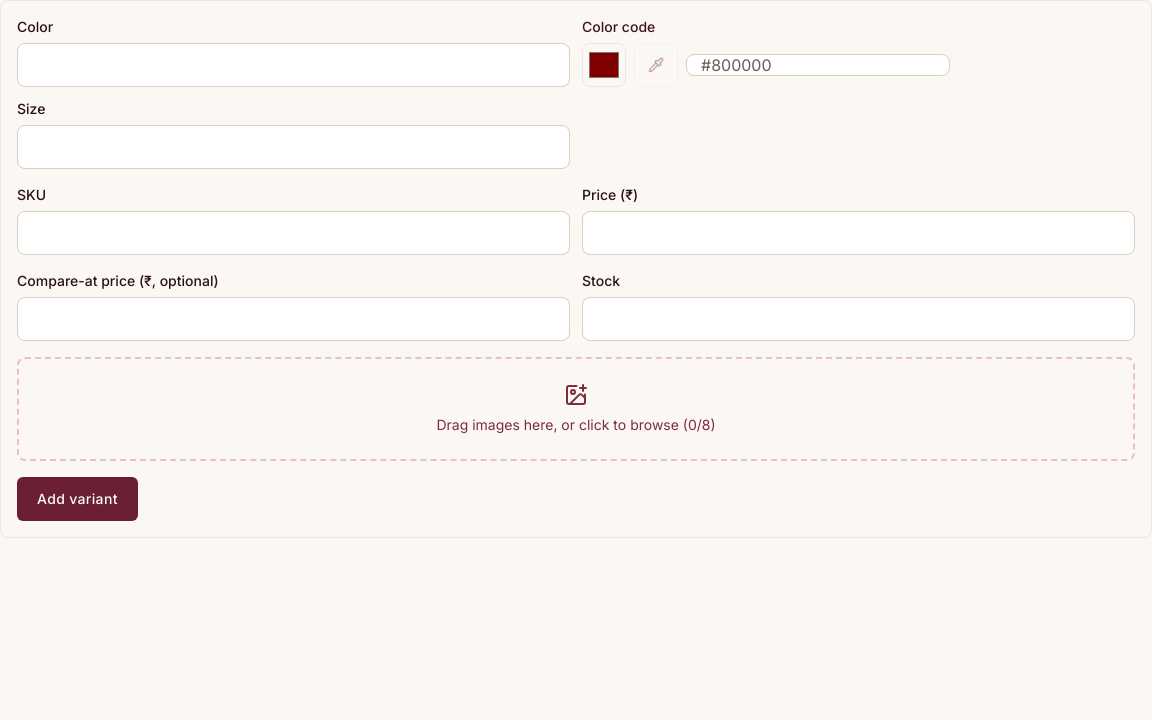
Test: VariantMiniForm › still requires every attribute to be filled in, same as before colorCode support
Type "SKU-1" into the field labelled "SKU" at (294, 233), box left=17, top=211, right=570, bottom=255
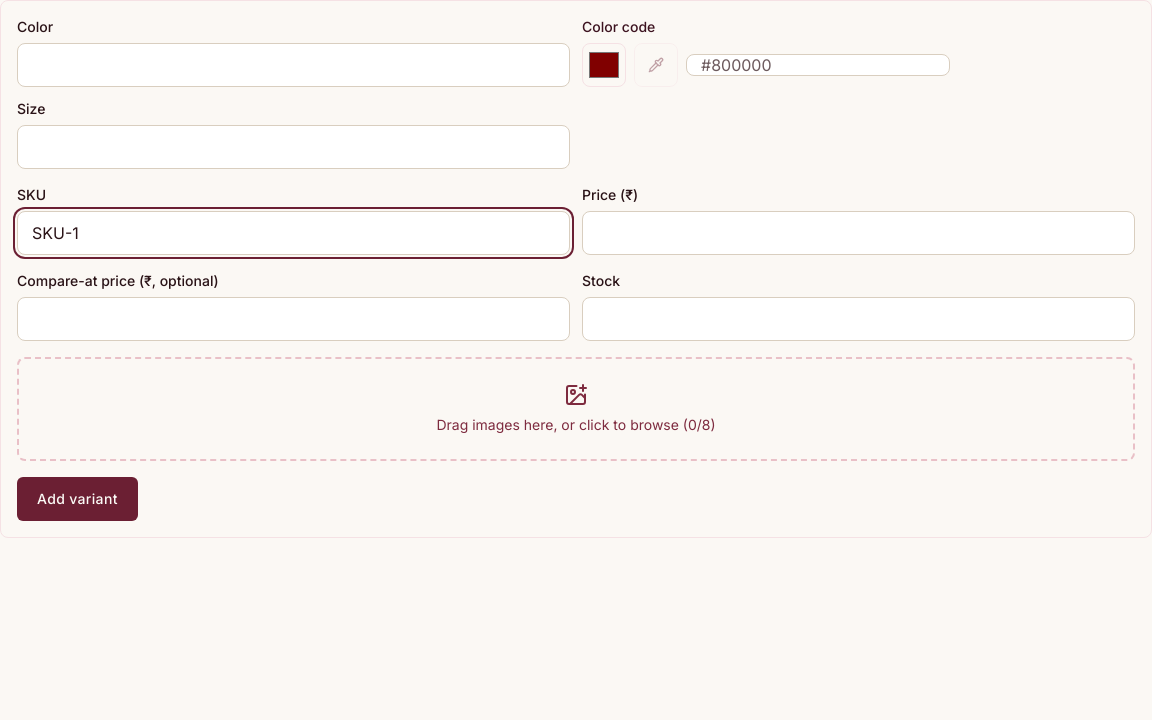
Type "1000" into the number field labelled "Price (₹)" at (858, 233), box left=582, top=211, right=1135, bottom=255
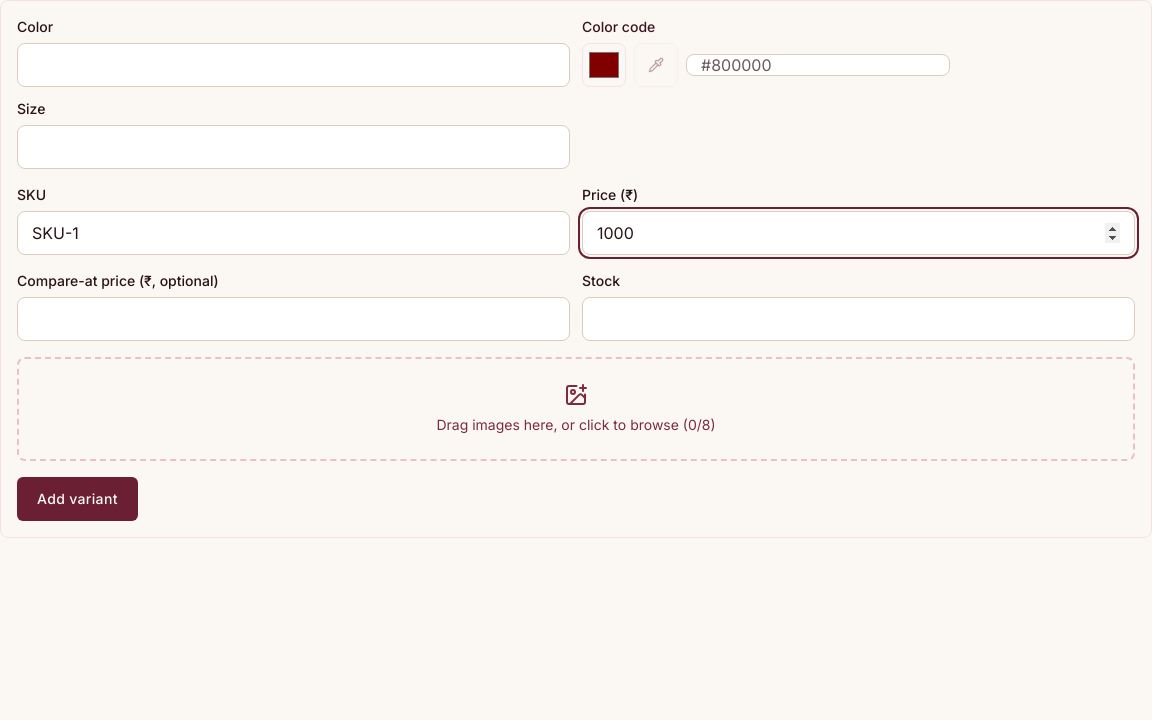
Type "5" into the number field labelled "Stock" at (858, 319), box left=582, top=297, right=1135, bottom=341
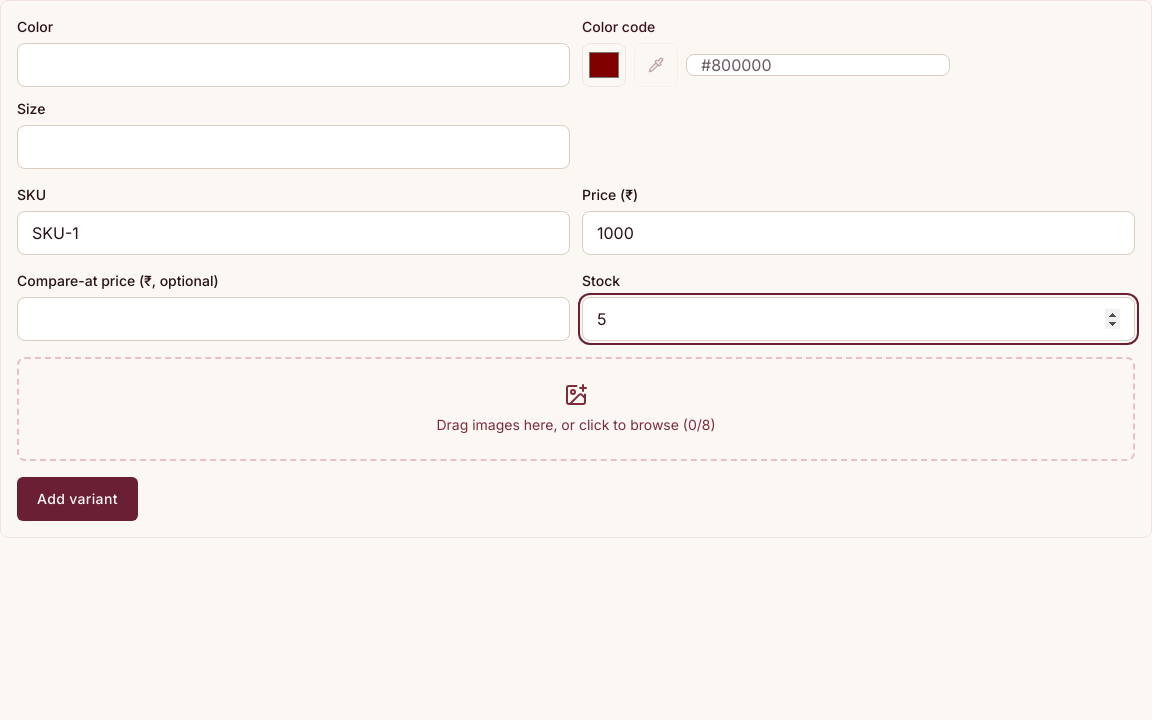
Click the button "Add variant" at (77, 499), box left=17, top=477, right=138, bottom=521
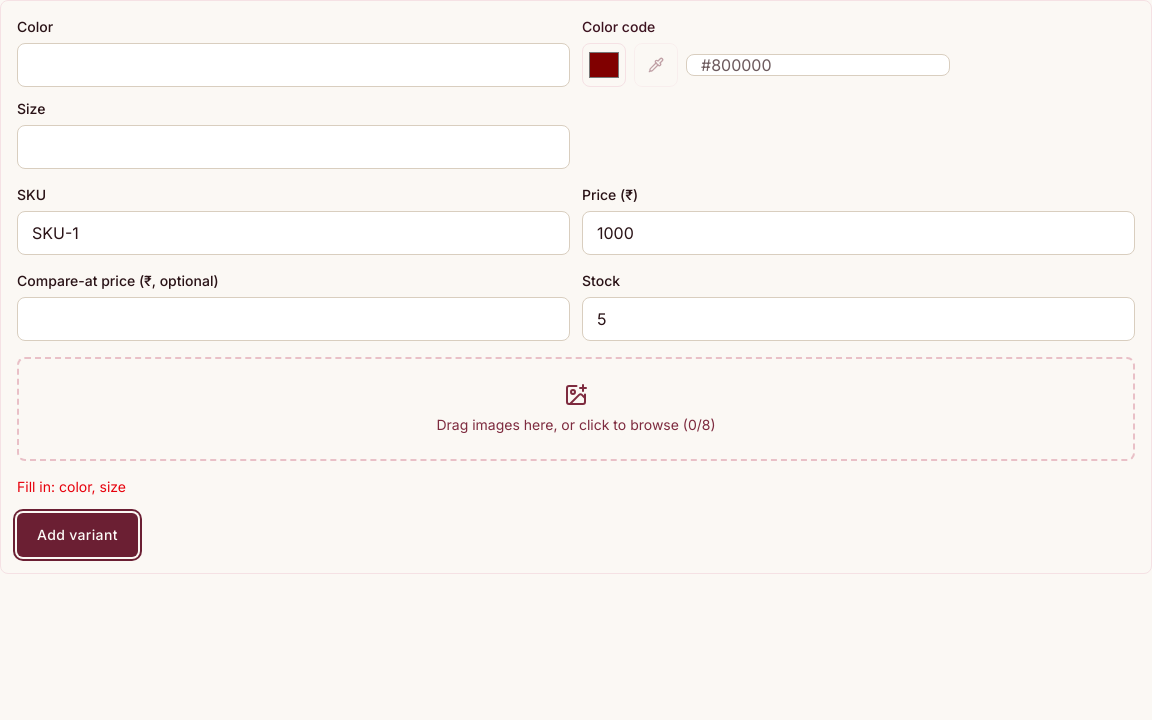
expect the message reads "Fill in: color, size": met, box left=17, top=478, right=126, bottom=495
